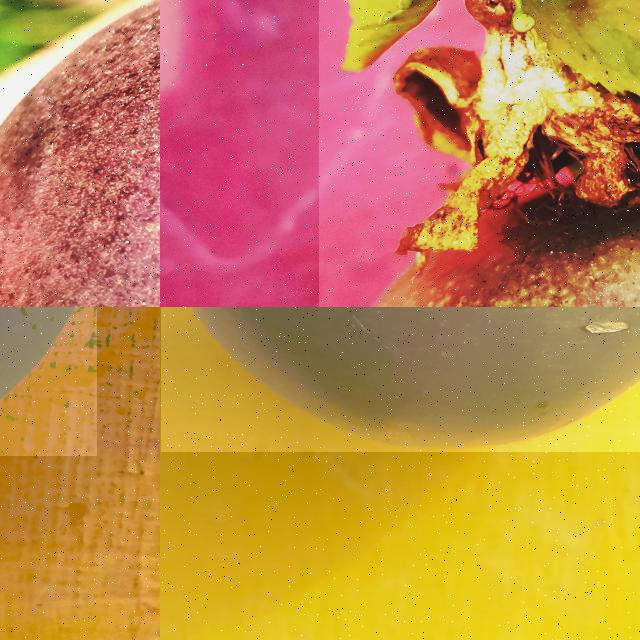Estado-3: (188, 307, 640, 452)
Estado-6: (0, 2, 160, 307)
